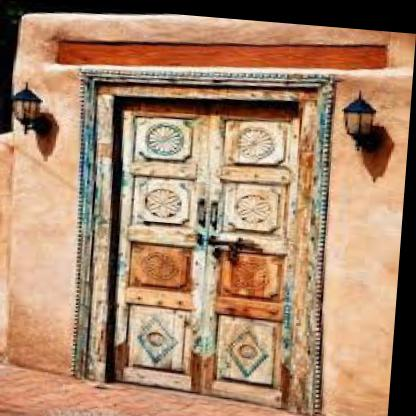door: (73, 79, 328, 397)
